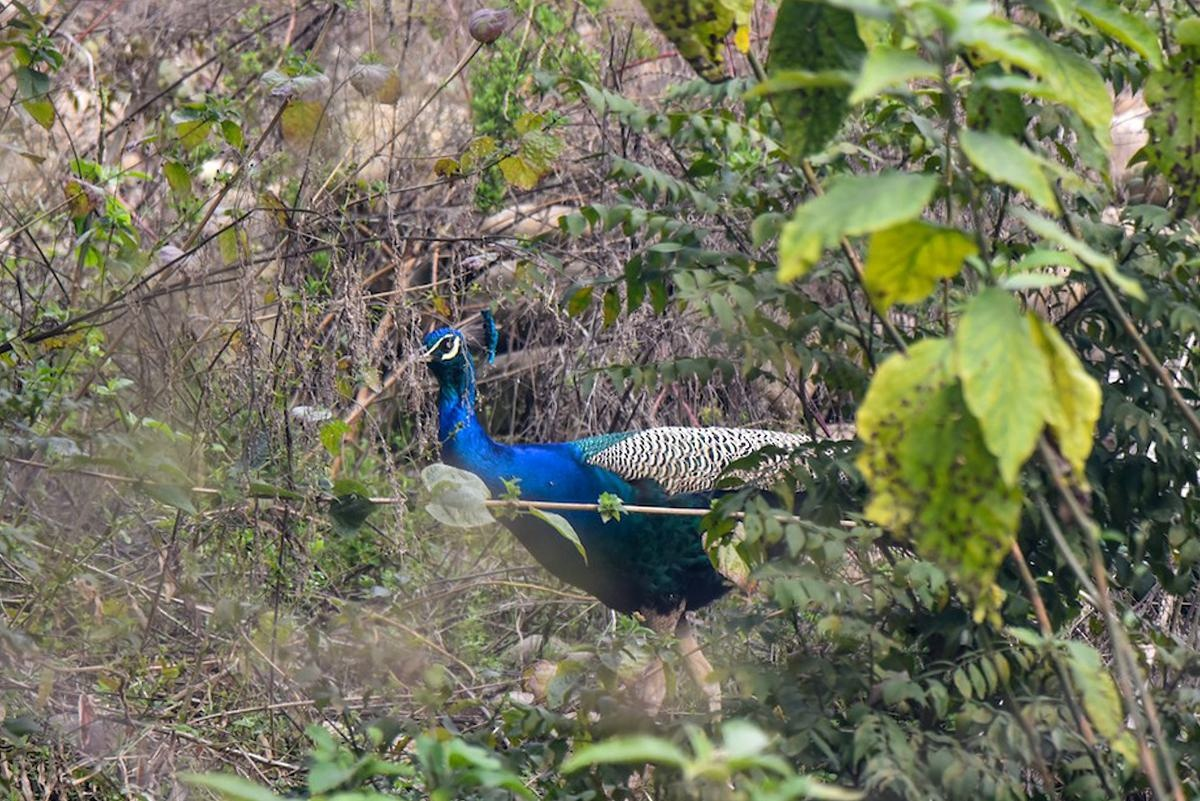peacock: (393, 287, 896, 644)
